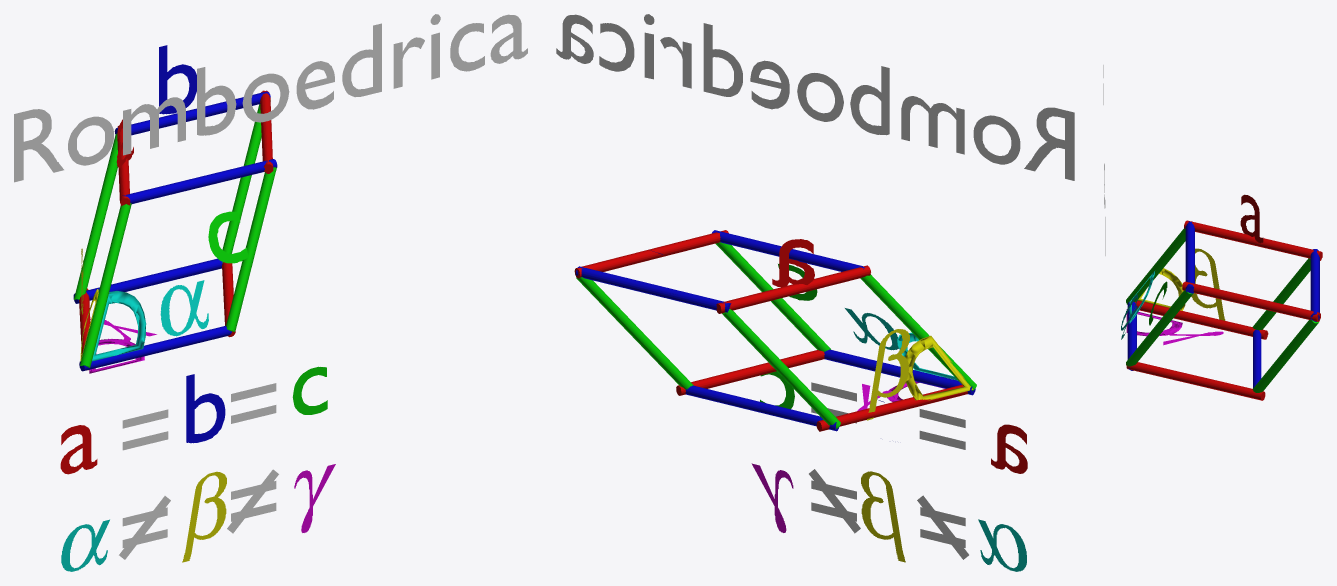
Rendered from romboedrica.obj.obj.
3 views of the same model, side by side, from view 1: azimuth 30°, elevation 25°; view 2: azimuth 150°, elevation 25°; view 3: azimuth 270°, elevation 25° (orthographic). The views are drawn at different scales.
Parts seen in each view (by area): view 1: Text.131_Text.001, Cylinder.059_Cylinder.001, Cylinder.054_Cylinder.001, Cylinder.057_Cylinder.001, Cylinder.050_Cylinder.001, Cylinder.049_Cylinder.001, Cylinder.055_Cylinder.001, Text.051_Text.001, Text.055_Text.001, Cylinder.051_Cylinder.001, Sphere.052_Sphere.001, Text.064_Text.001 (+12 smaller); view 2: Text.131_Text.001, Cylinder.057_Cylinder.001, Cylinder.060_Cylinder.001, Cylinder.051_Cylinder.001, Cylinder.056_Cylinder.001, Cylinder.055_Cylinder.001, Cylinder.053_Cylinder.001, Cylinder.054_Cylinder.001, Cylinder.050_Cylinder.001, Cylinder.052_Cylinder.001, Cylinder.049_Cylinder.001, Cylinder.058_Cylinder.001 (+13 smaller); view 3: Cylinder.052_Cylinder.001, Cylinder.053_Cylinder.001, Cylinder.060_Cylinder.001, Cylinder.058_Cylinder.001, Cylinder.054_Cylinder.001, Cylinder.051_Cylinder.001, Cylinder.059_Cylinder.001, Cylinder.057_Cylinder.001, Cylinder.050_Cylinder.001, Cylinder.056_Cylinder.001, Text.067_Text.001, Text.063_Text.001 (+5 smaller).
Boxes of the visible parts, bbox=[...] form: Text.131_Text.001: bbox=[14, 14, 527, 182]; Cylinder.059_Cylinder.001: bbox=[80, 203, 131, 367]; Cylinder.054_Cylinder.001: bbox=[226, 167, 276, 331]; Cylinder.057_Cylinder.001: bbox=[74, 133, 117, 299]; Cylinder.050_Cylinder.001: bbox=[122, 159, 277, 203]; Cylinder.049_Cylinder.001: bbox=[79, 326, 231, 371]; Cylinder.055_Cylinder.001: bbox=[73, 258, 222, 303]; Text.051_Text.001: bbox=[186, 374, 225, 443]; Text.055_Text.001: bbox=[182, 471, 226, 562]; Cylinder.051_Cylinder.001: bbox=[222, 104, 261, 263]; Sphere.052_Sphere.001: bbox=[92, 291, 146, 361]; Text.064_Text.001: bbox=[159, 45, 196, 114]; Text.131_Text.001: bbox=[556, 14, 1074, 180]; Cylinder.057_Cylinder.001: bbox=[722, 309, 840, 428]; Cylinder.060_Cylinder.001: bbox=[716, 265, 870, 313]; Cylinder.051_Cylinder.001: bbox=[576, 277, 693, 389]; Cylinder.056_Cylinder.001: bbox=[575, 266, 731, 312]; Cylinder.055_Cylinder.001: bbox=[685, 385, 839, 431]; Cylinder.053_Cylinder.001: bbox=[574, 230, 728, 278]; Cylinder.054_Cylinder.001: bbox=[715, 242, 830, 351]; Cylinder.050_Cylinder.001: bbox=[712, 230, 864, 271]; Cylinder.052_Cylinder.001: bbox=[676, 350, 824, 395]; Cylinder.049_Cylinder.001: bbox=[824, 349, 975, 395]; Cylinder.058_Cylinder.001: bbox=[816, 385, 967, 431]; Cylinder.052_Cylinder.001: bbox=[1126, 362, 1265, 400]; Cylinder.053_Cylinder.001: bbox=[1182, 281, 1320, 321]; Cylinder.060_Cylinder.001: bbox=[1184, 220, 1322, 260]; Cylinder.058_Cylinder.001: bbox=[1135, 300, 1268, 339]; Cylinder.054_Cylinder.001: bbox=[1126, 289, 1193, 366]; Cylinder.051_Cylinder.001: bbox=[1252, 320, 1318, 392]; Cylinder.059_Cylinder.001: bbox=[1126, 228, 1185, 304]; Cylinder.057_Cylinder.001: bbox=[1252, 258, 1310, 330]; Cylinder.050_Cylinder.001: bbox=[1185, 221, 1194, 293]; Cylinder.056_Cylinder.001: bbox=[1310, 249, 1319, 321]; Text.067_Text.001: bbox=[1191, 248, 1225, 320]; Text.063_Text.001: bbox=[1240, 194, 1263, 243].
Size of the model in its own units: 1.83 by 1.66 by 0.766.
